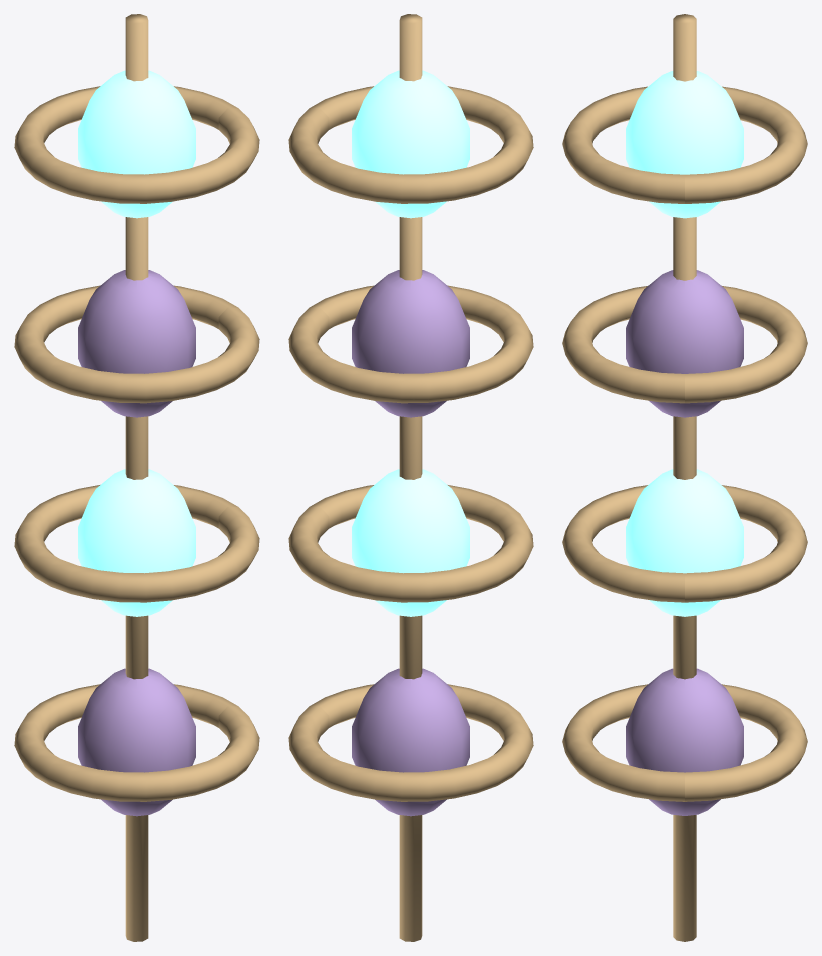
File: orn_lantern_chain.glb
3 views of the same model, side by side, from view 1: azimuth 30°, elevation 25°; view 2: azimuth 150°, elevation 25°; view 3: azimuth 270°, elevation 25° (orthographic).
Visible parts, largest first — view 1: ORN_lantern_chain_halo_1, ORN_lantern_chain_halo_2, ORN_lantern_chain_halo_0, ORN_lantern_chain_halo_3, ORN_lantern_chain_lantern_0, ORN_lantern_chain_lantern_3, ORN_lantern_chain_lantern_1, ORN_lantern_chain_lantern_2, ORN_lantern_chain_string; view 2: ORN_lantern_chain_halo_1, ORN_lantern_chain_halo_2, ORN_lantern_chain_halo_0, ORN_lantern_chain_halo_3, ORN_lantern_chain_lantern_0, ORN_lantern_chain_lantern_3, ORN_lantern_chain_lantern_1, ORN_lantern_chain_lantern_2, ORN_lantern_chain_string; view 3: ORN_lantern_chain_halo_3, ORN_lantern_chain_halo_1, ORN_lantern_chain_halo_2, ORN_lantern_chain_halo_0, ORN_lantern_chain_lantern_1, ORN_lantern_chain_lantern_0, ORN_lantern_chain_lantern_2, ORN_lantern_chain_lantern_3, ORN_lantern_chain_string.
Boxes of the visible parts, <box> form: ORN_lantern_chain_halo_1: <box>14,485,259,602</box>; ORN_lantern_chain_halo_2: <box>14,285,259,403</box>; ORN_lantern_chain_halo_0: <box>14,684,259,801</box>; ORN_lantern_chain_halo_3: <box>14,86,259,203</box>; ORN_lantern_chain_lantern_0: <box>78,668,195,816</box>; ORN_lantern_chain_lantern_3: <box>78,70,195,218</box>; ORN_lantern_chain_lantern_1: <box>78,469,195,616</box>; ORN_lantern_chain_lantern_2: <box>78,270,195,417</box>; ORN_lantern_chain_string: <box>125,14,148,941</box>; ORN_lantern_chain_halo_1: <box>288,485,533,602</box>; ORN_lantern_chain_halo_2: <box>288,285,533,403</box>; ORN_lantern_chain_halo_0: <box>288,684,533,801</box>; ORN_lantern_chain_halo_3: <box>288,86,533,203</box>; ORN_lantern_chain_lantern_0: <box>352,668,469,816</box>; ORN_lantern_chain_lantern_3: <box>352,70,469,218</box>; ORN_lantern_chain_lantern_1: <box>352,469,469,616</box>; ORN_lantern_chain_lantern_2: <box>352,270,469,417</box>; ORN_lantern_chain_string: <box>399,14,422,941</box>; ORN_lantern_chain_halo_3: <box>562,86,807,203</box>; ORN_lantern_chain_halo_1: <box>562,485,807,602</box>; ORN_lantern_chain_halo_2: <box>562,286,807,403</box>; ORN_lantern_chain_halo_0: <box>562,684,807,801</box>; ORN_lantern_chain_lantern_1: <box>626,469,743,616</box>; ORN_lantern_chain_lantern_0: <box>626,668,743,815</box>; ORN_lantern_chain_lantern_2: <box>626,270,743,417</box>; ORN_lantern_chain_lantern_3: <box>626,71,743,218</box>; ORN_lantern_chain_string: <box>673,14,696,941</box>.
Bounding box in the file's own units: 0.57 × 2.35 × 0.57.
